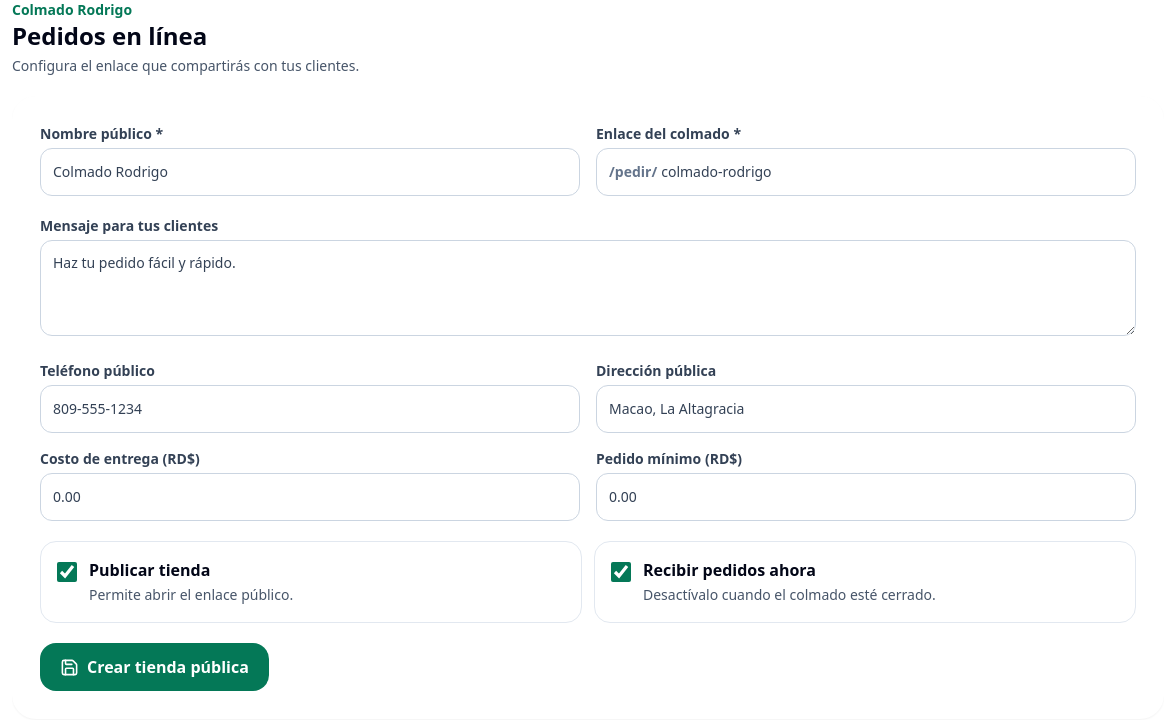
Test: StorefrontSettingsPanel › creates a public storefront when the store does not have one
The width and height of the screenshot is (1164, 720).
Expected: the button "Crear tienda pública" is shown, [40,643,269,691]
Replace the text in the number field labelled "Costo de entrega (RD$)" with "75". click: (310, 497)
box: [40,473,580,521]
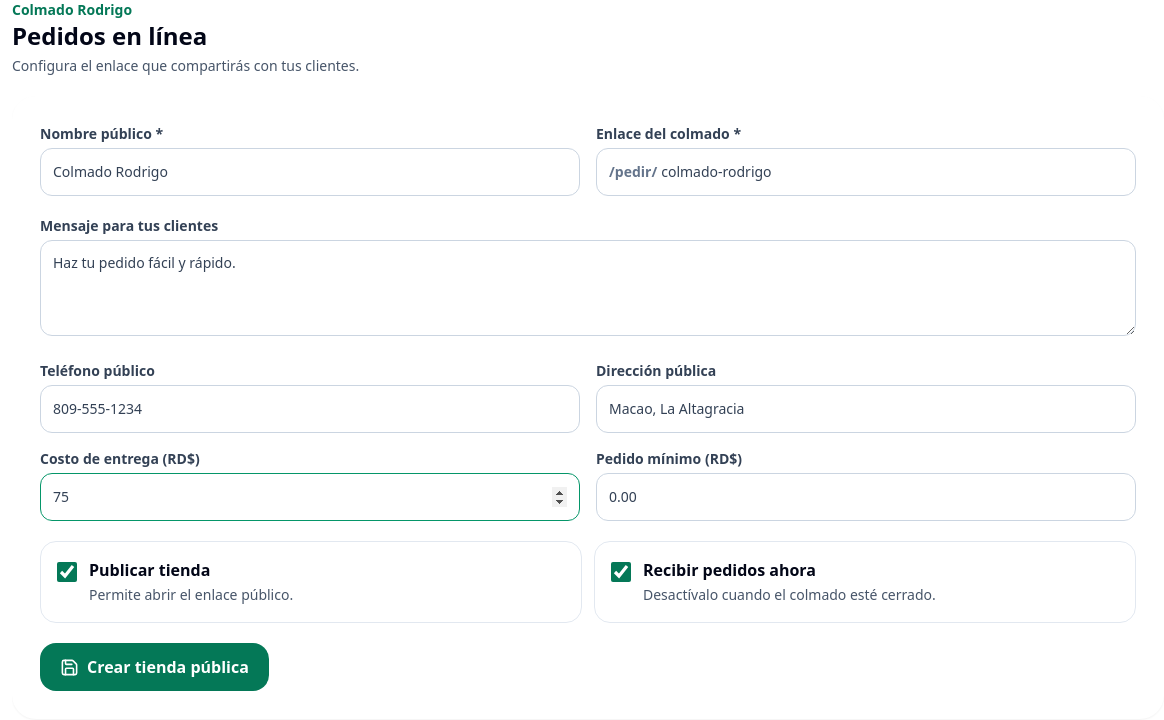
Replace the text in the number field labelled "Pedido mínimo (RD$)" with "250". click: (866, 497)
box: [596,473,1136,521]
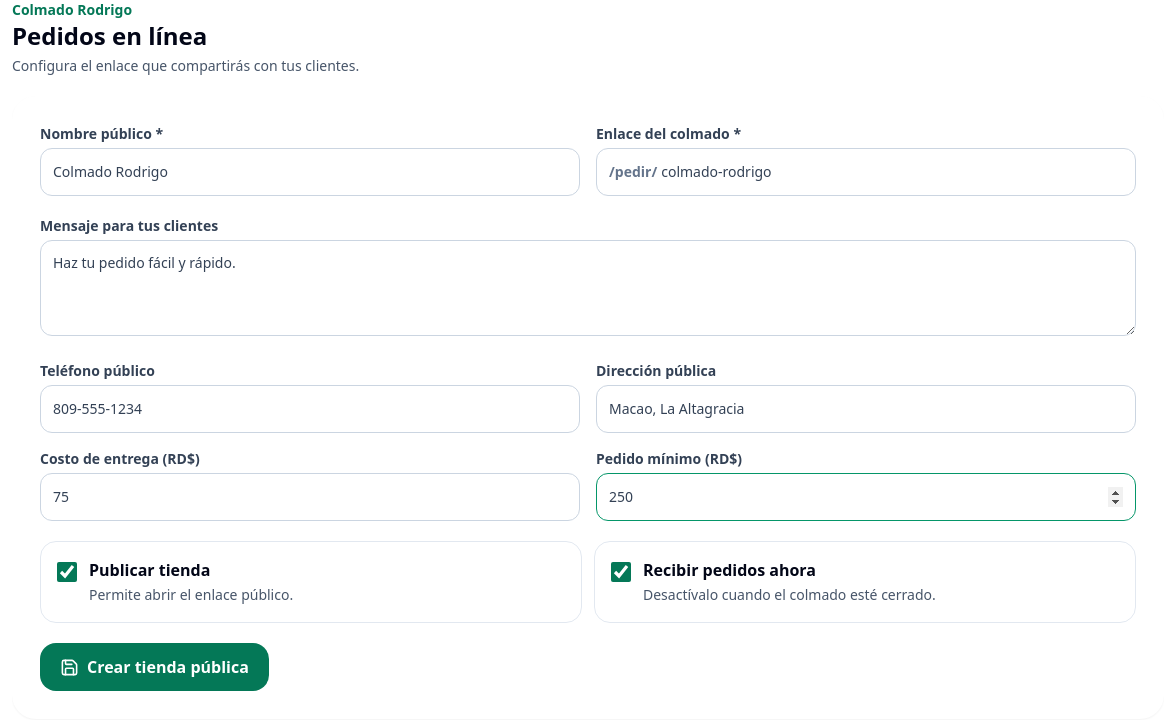
Click the button "Crear tienda pública". click: (154, 667)
box: [40,643,269,691]
(page scrolled)
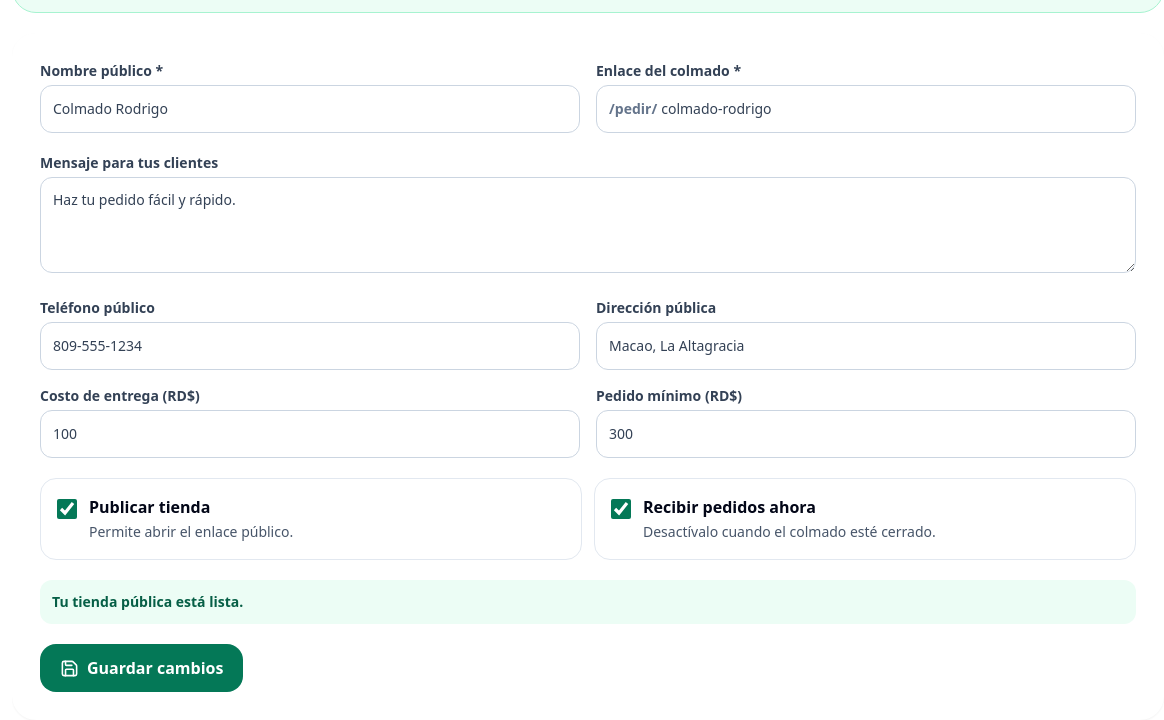
Result: the message reads "Tu tienda pública está lista." at [52,592,243,611]
